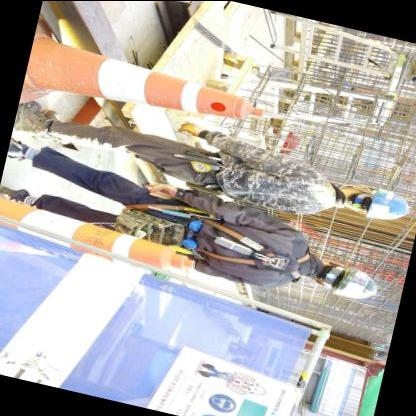Helmet: (355, 178, 416, 229)
safety-shoe: (13, 96, 56, 137)
